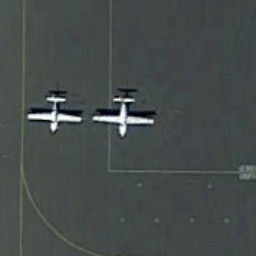Airplane: (90, 81, 157, 148), (18, 85, 85, 140)
